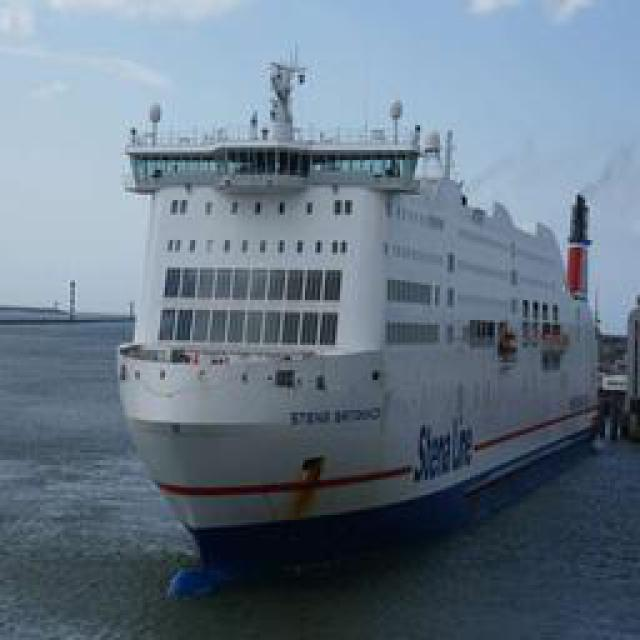Ship: (122, 52, 605, 572)
